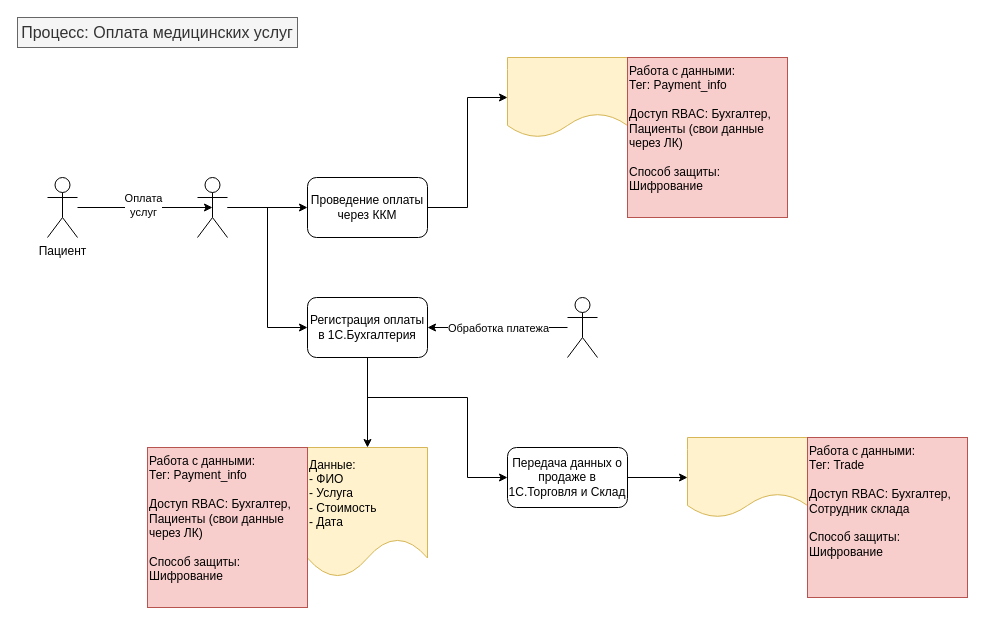
This 985x625 diagram has some shape labels left out. Each missing label, with the box of its shape:
Бухгалтер: (566, 296, 598, 358)
Данные: - Услуга - Стоимость - Дата: (506, 56, 628, 138)
Данные: - Услуга/товар - Кол-во - Стоимость: (686, 436, 808, 518)
Кассир: (196, 176, 228, 238)
